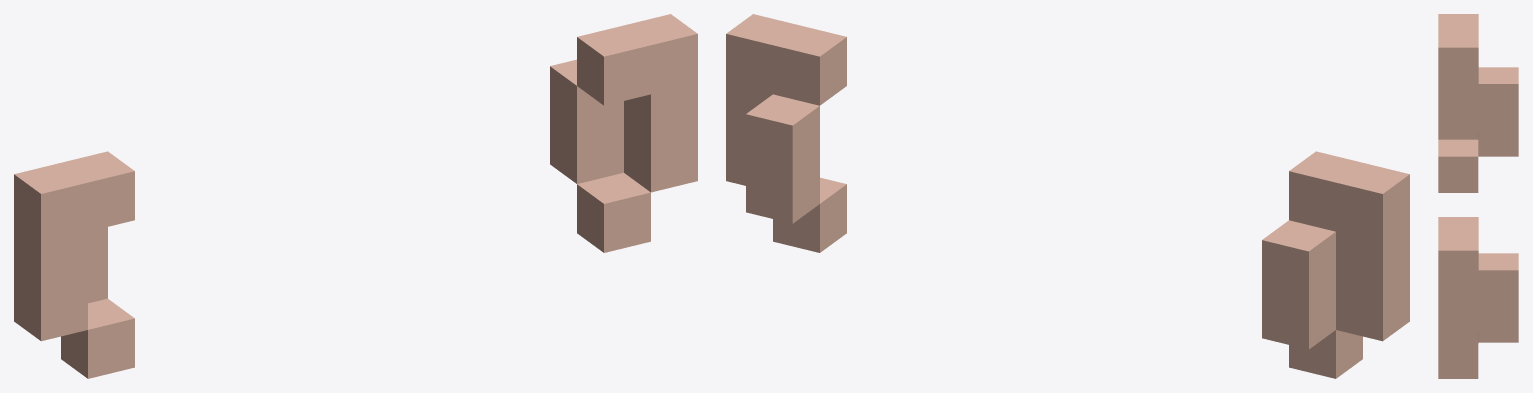
Rendered from EarsHuman.fbx.
The picture shows the model from 3 angles, left to right: view 1: azimuth 30°, elevation 25°; view 2: azimuth 150°, elevation 25°; view 3: azimuth 270°, elevation 25°; orthographic projection. The views are drawn at different scales.
Visible parts, largest first — view 1: EarsHuman; view 2: EarsHuman; view 3: EarsHuman.
Part boxes in pixels (x1,y1,x2,y2): EarsHuman: (14,14,697,378); EarsHuman: (726,14,1409,378); EarsHuman: (1438,14,1518,378).
Bounding box in the file's own units: 140 × 40 × 20.
